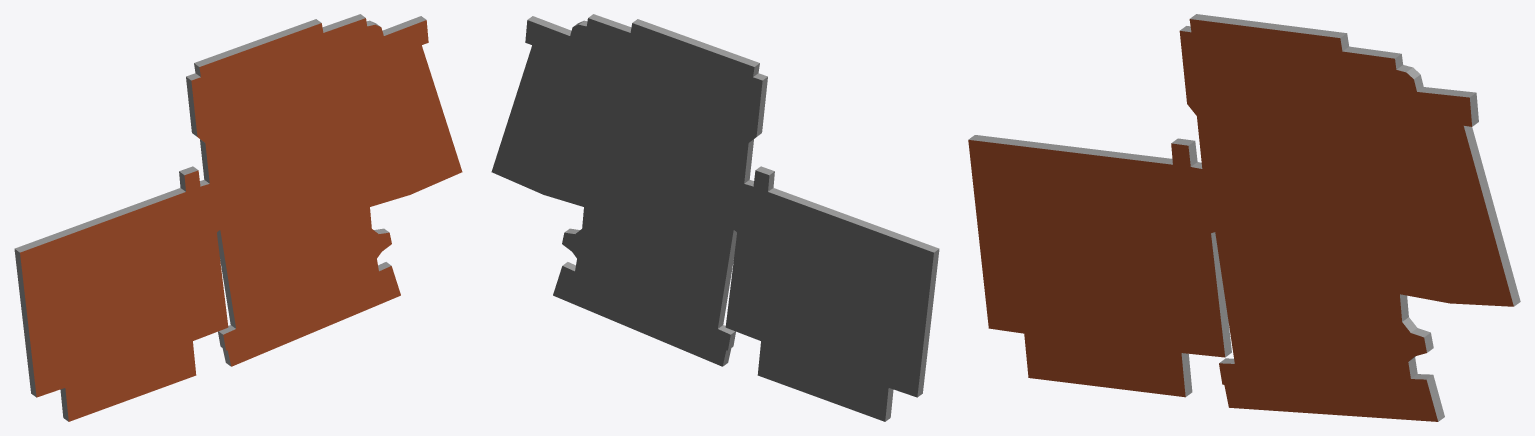
The model's file is construction_0101_assumed_A_Grande_construcao_h6m.obj.
3 views of the same model, side by side, from view 1: azimuth 30°, elevation 25°; view 2: azimuth 150°, elevation 25°; view 3: azimuth 330°, elevation 25° (orthographic). The views are drawn at different scales.
Parts seen in each view (by area): view 1: construction_0101_assumed_A_Grande_construcao; view 2: construction_0101_assumed_A_Grande_construcao; view 3: construction_0101_assumed_A_Grande_construcao.
Part boxes in pixels (x1,y1,x2,y2): construction_0101_assumed_A_Grande_construcao: (14, 14, 462, 421); construction_0101_assumed_A_Grande_construcao: (491, 14, 939, 421); construction_0101_assumed_A_Grande_construcao: (968, 14, 1520, 421).
Size of the model in its own units: 278 by 203 by 6.
